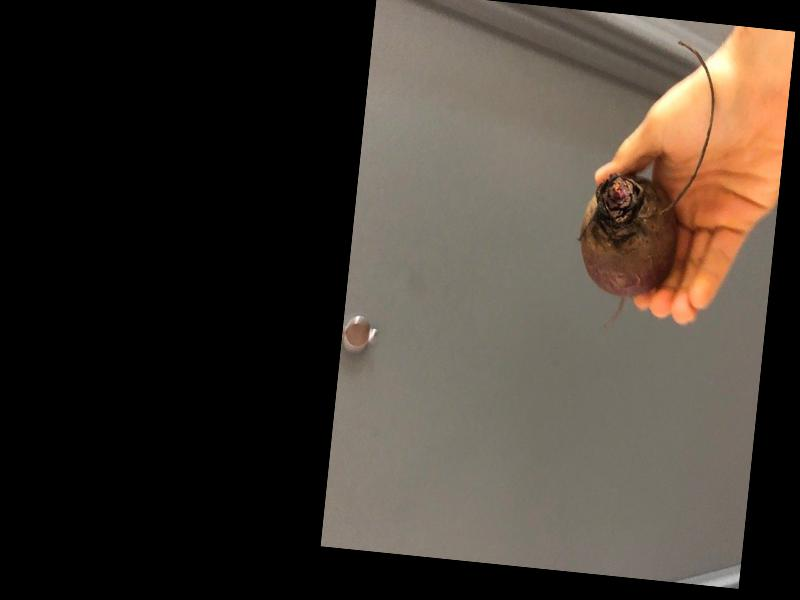Beet: (571, 35, 722, 337)
